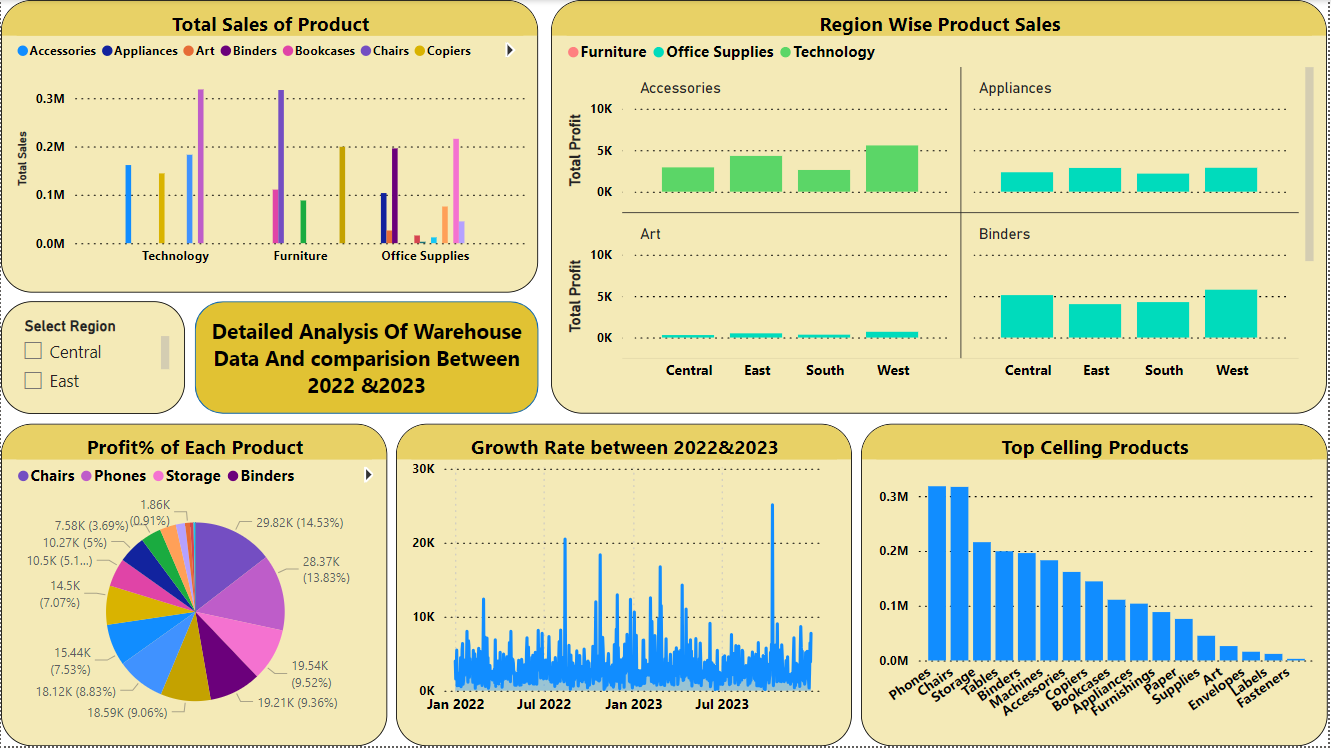

This screenshot's page, from the dashboard's own definition file:
{"tool":"powerbi","page":{"name":"Page 1","canvas":[1280,720],"ordinal":0},"visuals":[{"type":"clusteredColumnChart","title":"Total Sales of Product","fields":{"Category":["df_orders.category"],"Y":["Sum(df_orders.sale_price)"],"Series":["df_orders.sub_category"]},"box":[0,0,518.8,282.3],"z":0},{"type":"lineStackedColumnComboChart","title":"Region Wise Product Sales","fields":{"Category":["df_orders.region"],"Y":["Sum(df_orders.profit)"],"Series":["df_orders.category"],"Rows":["df_orders.sub_category"]},"box":[530.8,0,749.2,399.3],"z":8},{"type":"columnChart","title":"Top Celling Products ","fields":{"Category":["df_orders.sub_category"],"Y":["Sum(df_orders.sale_price)"]},"box":[830,409,450,311.3],"z":10},{"type":"stackedAreaChart","title":"Growth Rate between 2022&2023","fields":{"Category":["df_orders.order_date.Variation.Date Hierarchy.Year","df_orders.order_date.Variation.Date Hierarchy.Quarter","df_orders.order_date.Variation.Date Hierarchy.Month","df_orders.order_date.Variation.Date Hierarchy.Day"],"Y":["Sum(df_orders.sale_price)"]},"box":[381.2,409,440.4,311.3],"z":11},{"type":"pieChart","title":"Profit% of Each Product","fields":{"Category":["df_orders.sub_category"],"Y":["Sum(df_orders.profit)"]},"box":[0,409,372.8,311.3],"z":12},{"type":"slicer","title":"Total Sales of Product","fields":{"Values":["df_orders.region"]},"box":[0,290.8,177.3,108.6],"z":13},{"type":"bookmarkNavigator","box":[53.1,196.6,599.6,49.5],"z":15},{"type":"shape","box":[187,290.8,331.8,108.6],"z":16}]}

Visuals, with their boxes in screenshot pixels (x1, y1, x2, y2), scaled from the page's 1280x720 canvas onto the 1331x749 screenshot:
"Total Sales of Product" clusteredColumnChart: left=0, top=0, right=539, bottom=294
"Region Wise Product Sales" lineStackedColumnComboChart: left=552, top=0, right=1330, bottom=415
"Top Celling Products " columnChart: left=863, top=425, right=1330, bottom=748
"Growth Rate between 2022&2023" stackedAreaChart: left=396, top=425, right=854, bottom=748
"Profit% of Each Product" pieChart: left=0, top=425, right=388, bottom=748
"Total Sales of Product" slicer: left=0, top=303, right=184, bottom=415
bookmarkNavigator: left=55, top=205, right=679, bottom=256
shape: left=194, top=303, right=539, bottom=415
